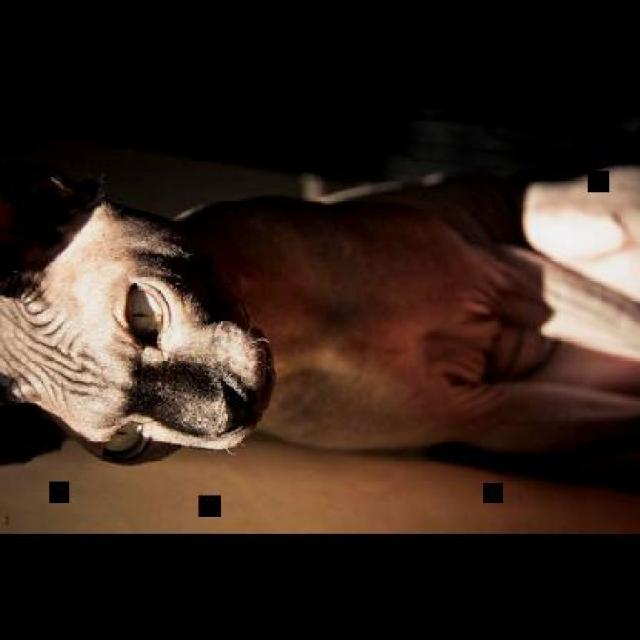unauthorized: (0, 157, 638, 483)
